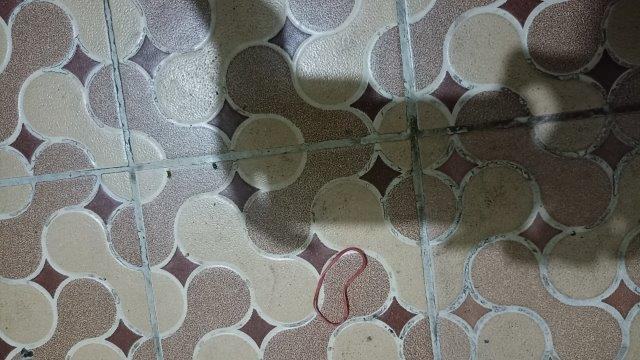karet: (313, 247, 367, 325)
